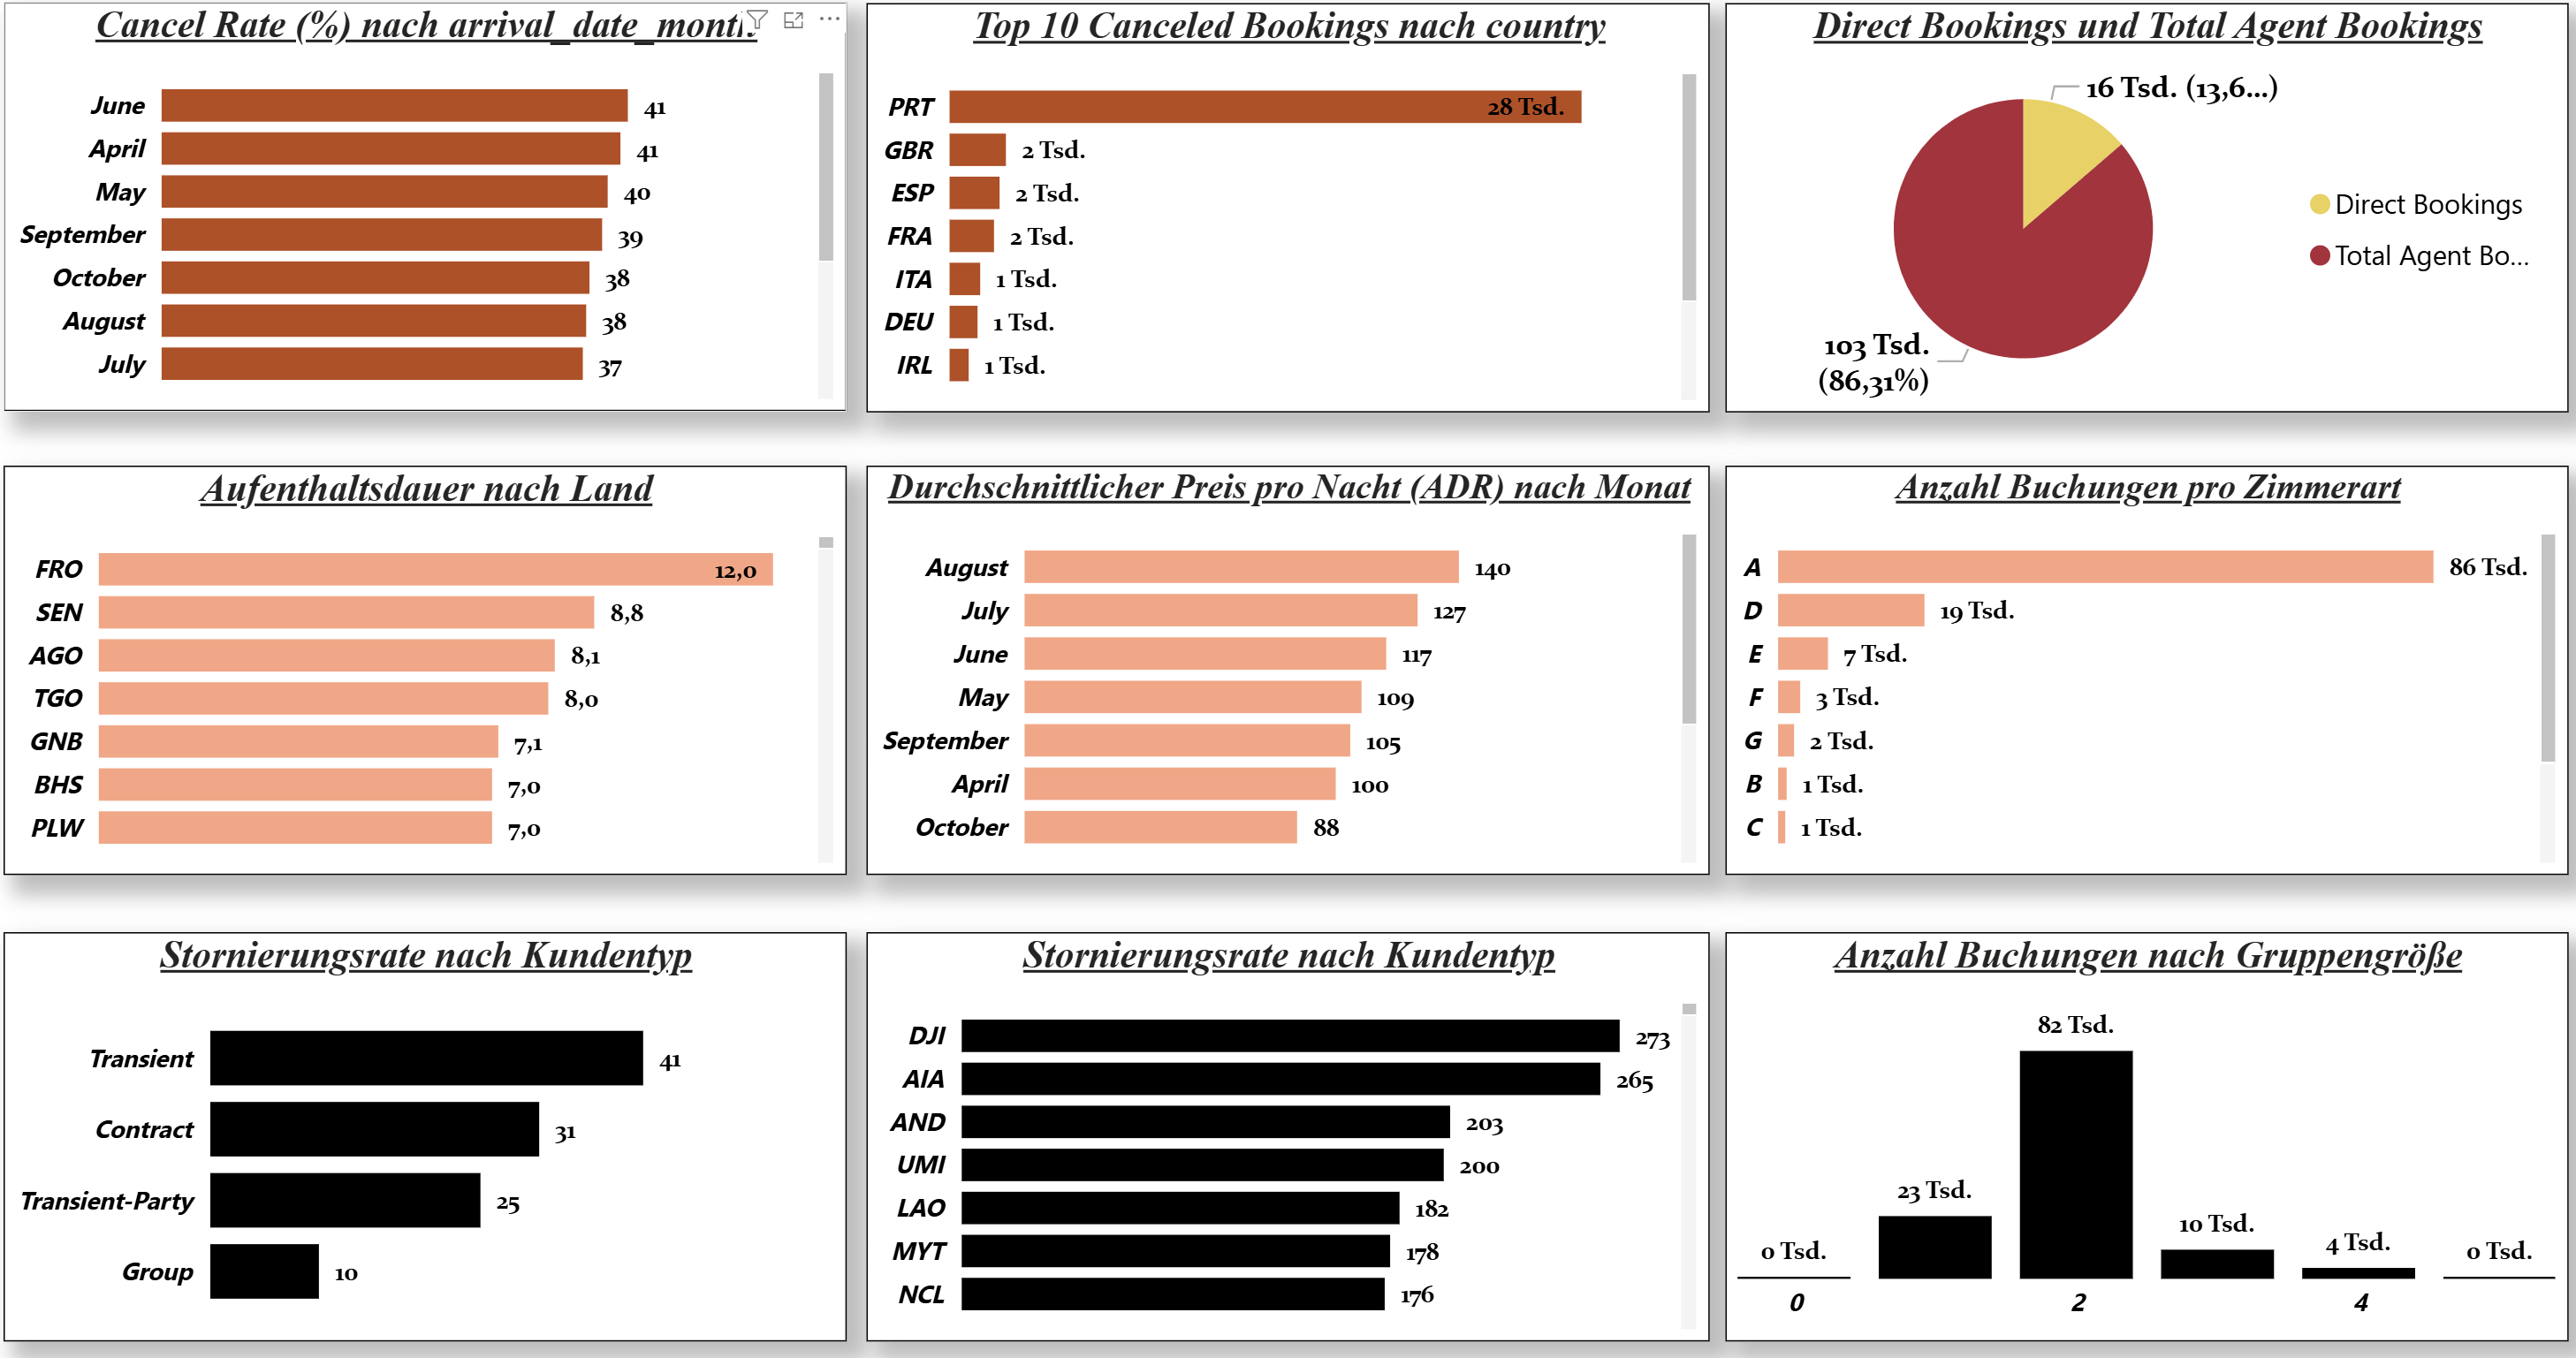

The page's visual inventory and layout, read from the dashboard file:
{"tool":"powerbi","page":{"name":"Stornierungen & Trends","canvas":[1280,720],"ordinal":1},"visuals":[{"type":"barChart","fields":{"Category":["hotel_bookings.arrival_date_month"],"Y":["Measures (2).Cancel Rate (%)"]},"box":[6.5,6.5,415.9,202.1],"z":0},{"type":"barChart","title":"Top 10 Canceled Bookings nach country","fields":{"Category":["hotel_bookings.country"],"Y":["Measures (2).Canceled Bookings"]},"box":[432.3,7.2,415.9,202.1],"z":1},{"type":"pieChart","fields":{"Y":["Measures (2).Direct Bookings","Measures (2).Total Agent Bookings"]},"box":[856,7.2,415.9,202.1],"z":2},{"type":"barChart","title":"Aufenthaltsdauer nach Land","fields":{"Category":["hotel_bookings.country"],"Y":["Measures (2).Average Stay"]},"box":[6.5,235.4,415.9,202.1],"z":3},{"type":"barChart","title":"Durchschnittlicher Preis pro Nacht (ADR) nach Monat","fields":{"Category":["hotel_bookings.arrival_date_month"],"Y":["Measures (2).Average ADR"]},"box":[432.3,235.4,415.9,202.1],"z":4},{"type":"barChart","title":"Anzahl Buchungen pro Zimmerart","fields":{"Category":["hotel_bookings.reserved_room_type"],"Y":["Measures (2).Total Bookings"]},"box":[856,235.4,415.9,202.1],"z":5},{"type":"barChart","title":"Stornierungsrate nach Kundentyp","fields":{"Category":["hotel_bookings.customer_type"],"Y":["Measures (2).Cancel Rate (%)"]},"box":[6.5,465.6,415.9,202.1],"z":6},{"type":"barChart","title":"Stornierungsrate nach Kundentyp","fields":{"Category":["hotel_bookings.country"],"Y":["Measures (2).Average ADR"]},"box":[432.3,465.6,415.9,202.1],"z":7},{"type":"columnChart","title":"Anzahl Buchungen nach Gruppengröße","fields":{"Category":["hotel_bookings.Group Size"],"Y":["Measures (2).Total Bookings"]},"box":[856,465.6,415.9,202.1],"z":8}]}

Visuals, with their boxes on the page's 1280x720 design canvas (x1, y1, x2, y2). These are canvas units, not pixel positions in the 2576x1358 screenshot, which may show the page scaled, cropped or inside an application window:
barChart - hotel_bookings.arrival_date_month x Measures (2).Cancel Rate (%): rect(6, 6, 422, 209)
"Top 10 Canceled Bookings nach country" barChart: rect(432, 7, 848, 209)
pieChart - Measures (2).Direct Bookings x Measures (2).Total Agent Bookings: rect(856, 7, 1272, 209)
"Aufenthaltsdauer nach Land" barChart: rect(6, 235, 422, 438)
"Durchschnittlicher Preis pro Nacht (ADR) nach Monat" barChart: rect(432, 235, 848, 438)
"Anzahl Buchungen pro Zimmerart" barChart: rect(856, 235, 1272, 438)
"Stornierungsrate nach Kundentyp" barChart: rect(6, 466, 422, 668)
"Stornierungsrate nach Kundentyp" barChart: rect(432, 466, 848, 668)
"Anzahl Buchungen nach Gruppengröße" columnChart: rect(856, 466, 1272, 668)
